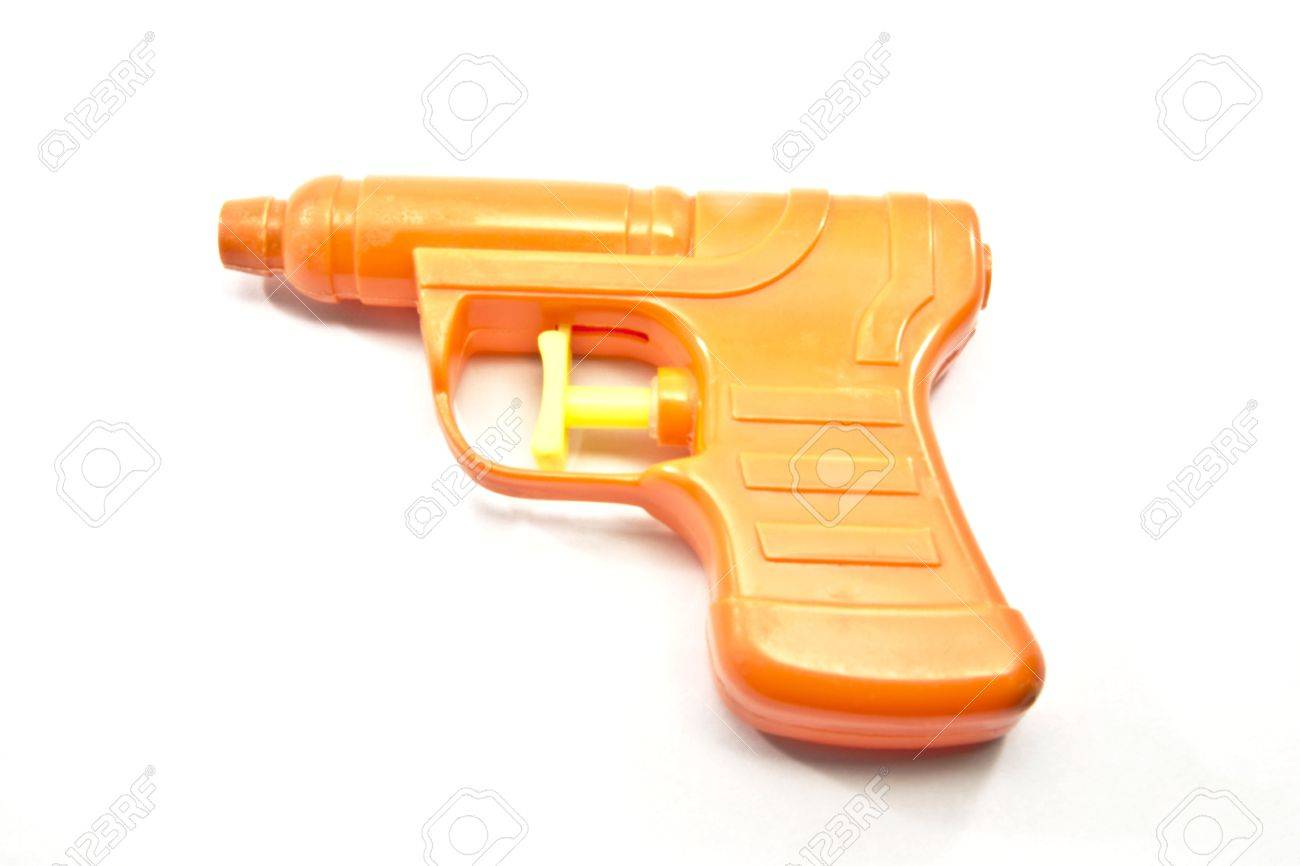Arma Falsa: (212, 157, 1119, 775)
